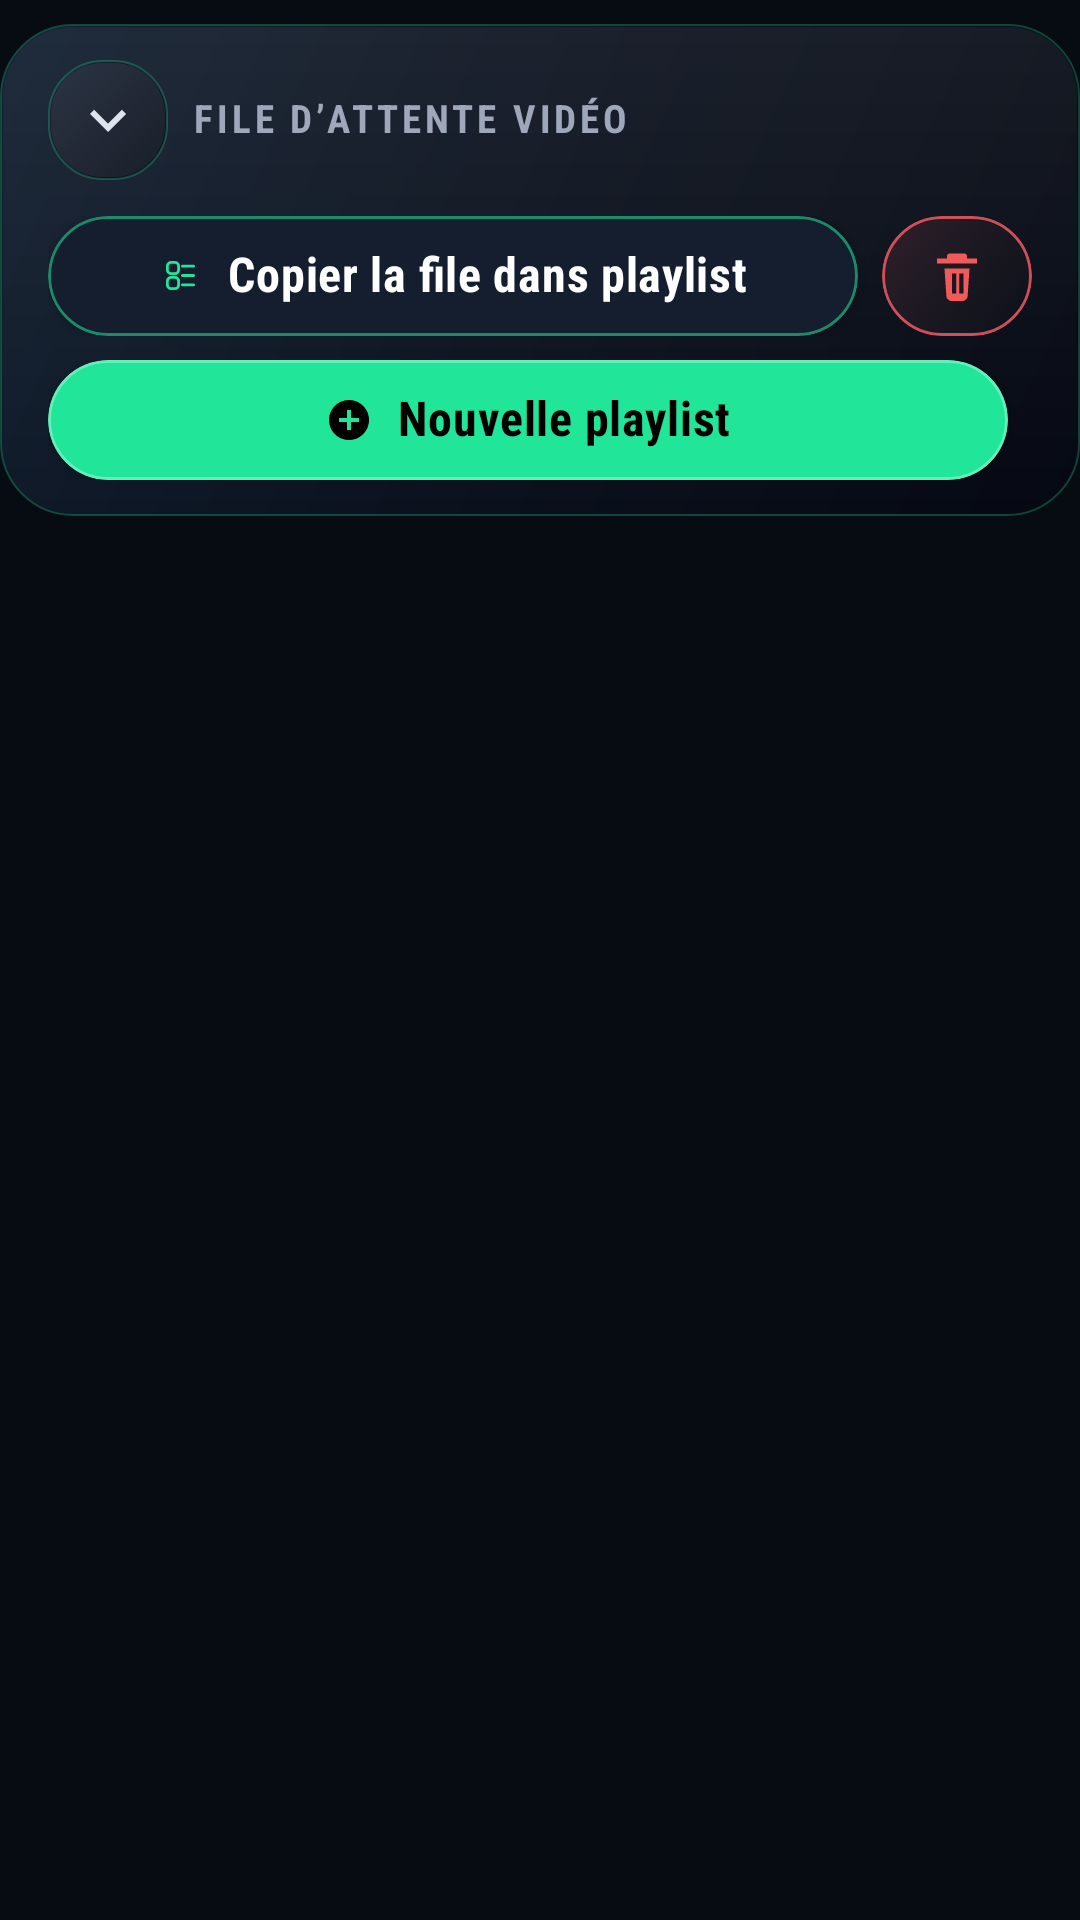

Point at icon controls on the screen. Image size 1080px×1920px, points as (x=x, y=y).
Vider: (x=957, y=276)
